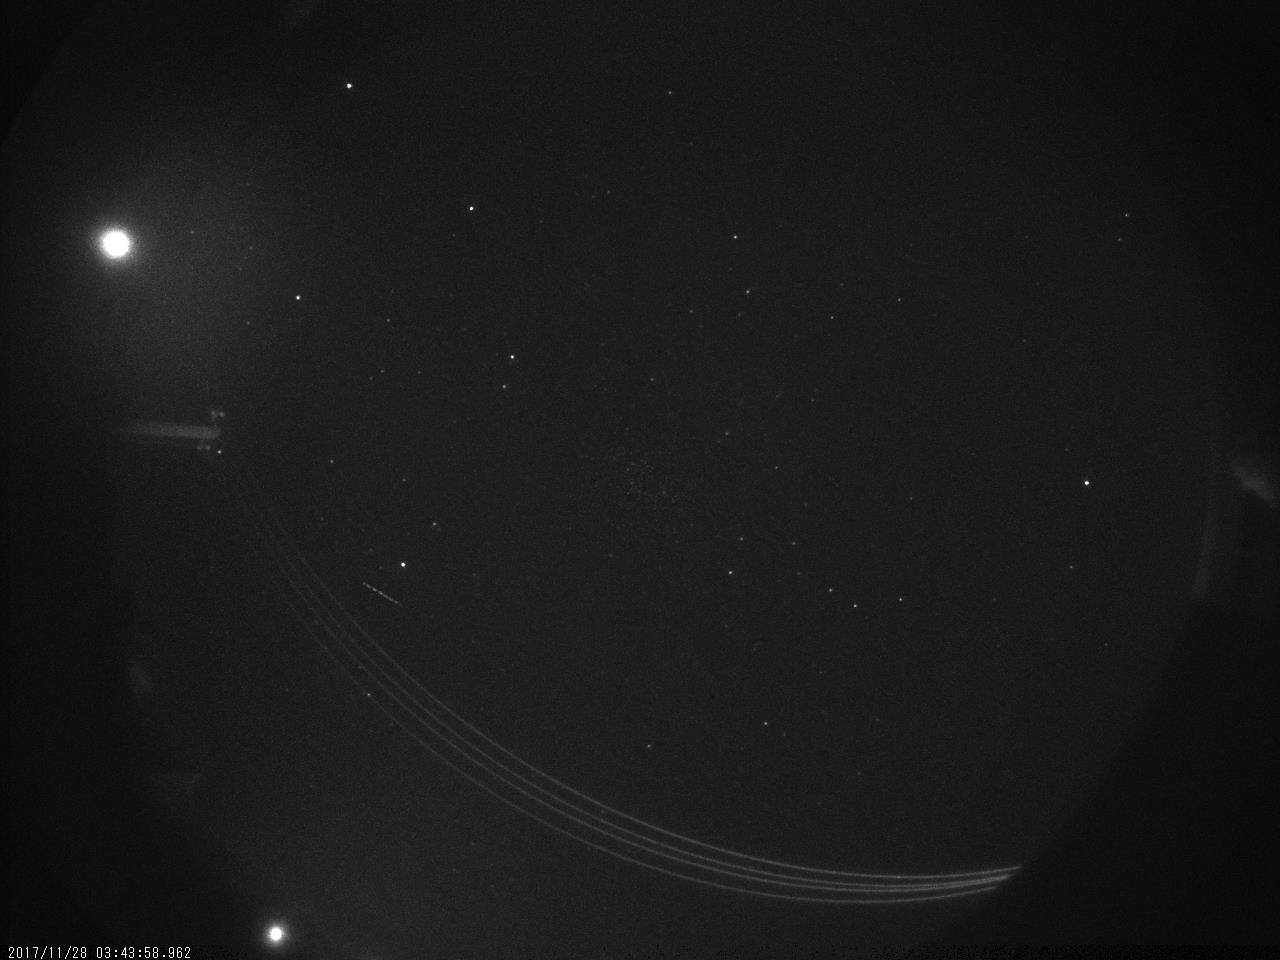meteor: (347, 573, 424, 622)
